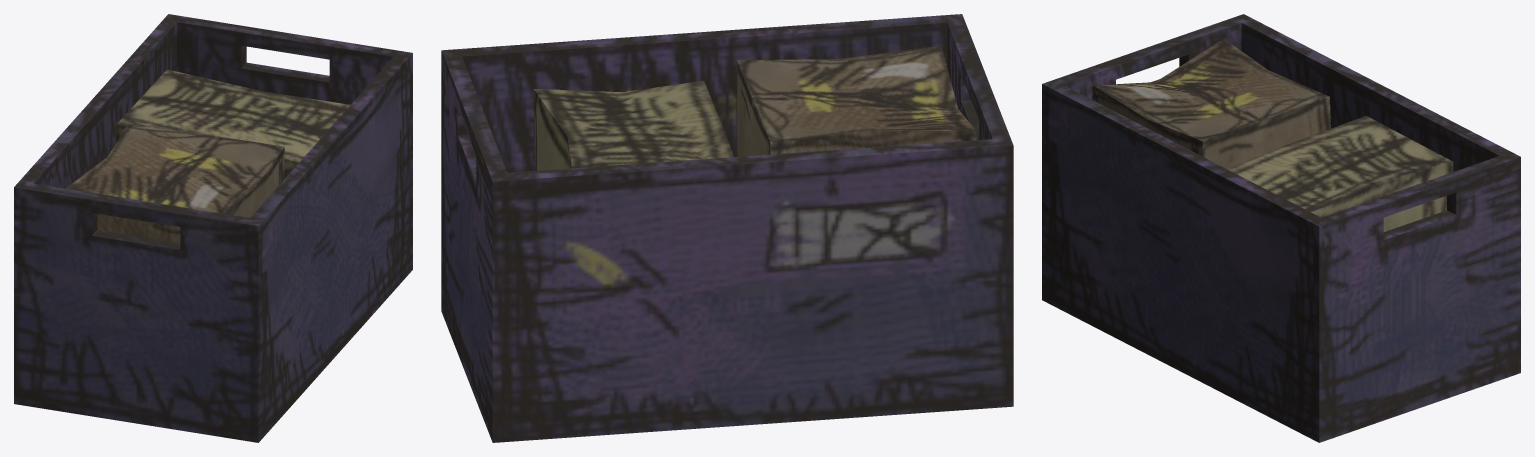
The model's file is boxarch.fbx.
3 renders of one model, left to right at view 1: azimuth 30°, elevation 25°; view 2: azimuth 150°, elevation 25°; view 3: azimuth 270°, elevation 25°, orthographic. The views are drawn at different scales.
Parts seen in each view (by area): view 1: Boxes.008; view 2: Boxes.008; view 3: Boxes.008.
Boxes of the visible parts, x1,y1,x2,y2 form: Boxes.008: (14, 14, 412, 442); Boxes.008: (441, 14, 1013, 442); Boxes.008: (1042, 14, 1520, 442).
Size of the model in its own units: 90.03 by 42.71 by 85.66.
